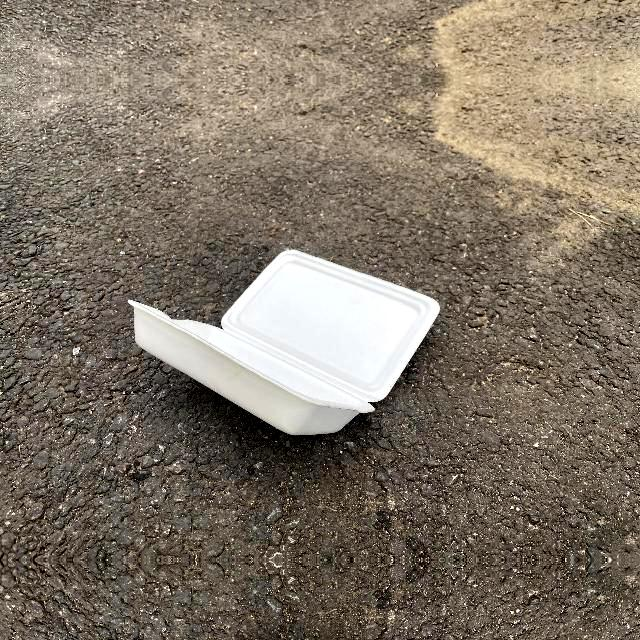Styrofoam: (128, 247, 442, 436), (127, 249, 440, 435)
